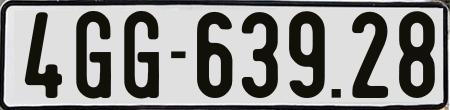2: (351, 12, 393, 100)
3: (240, 12, 282, 104)
4: (23, 12, 61, 98)
6: (196, 12, 231, 104)
8: (397, 11, 432, 103)
9: (289, 8, 329, 99)
G: (121, 10, 156, 104), (74, 9, 109, 102)
